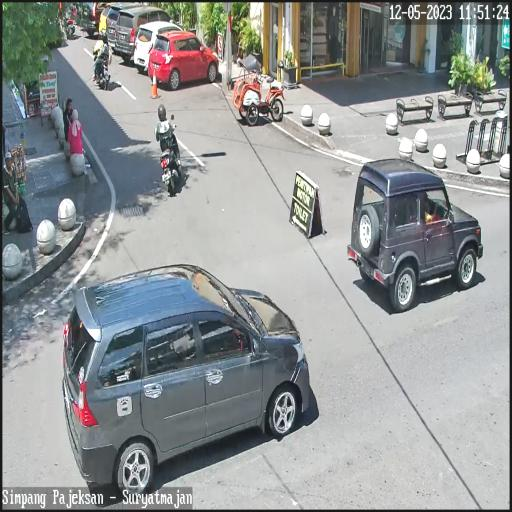mobil: (54, 262, 317, 488), (344, 152, 487, 311), (149, 26, 220, 96), (114, 7, 184, 65), (135, 16, 188, 78)
motor: (154, 118, 188, 200), (92, 42, 114, 95)
